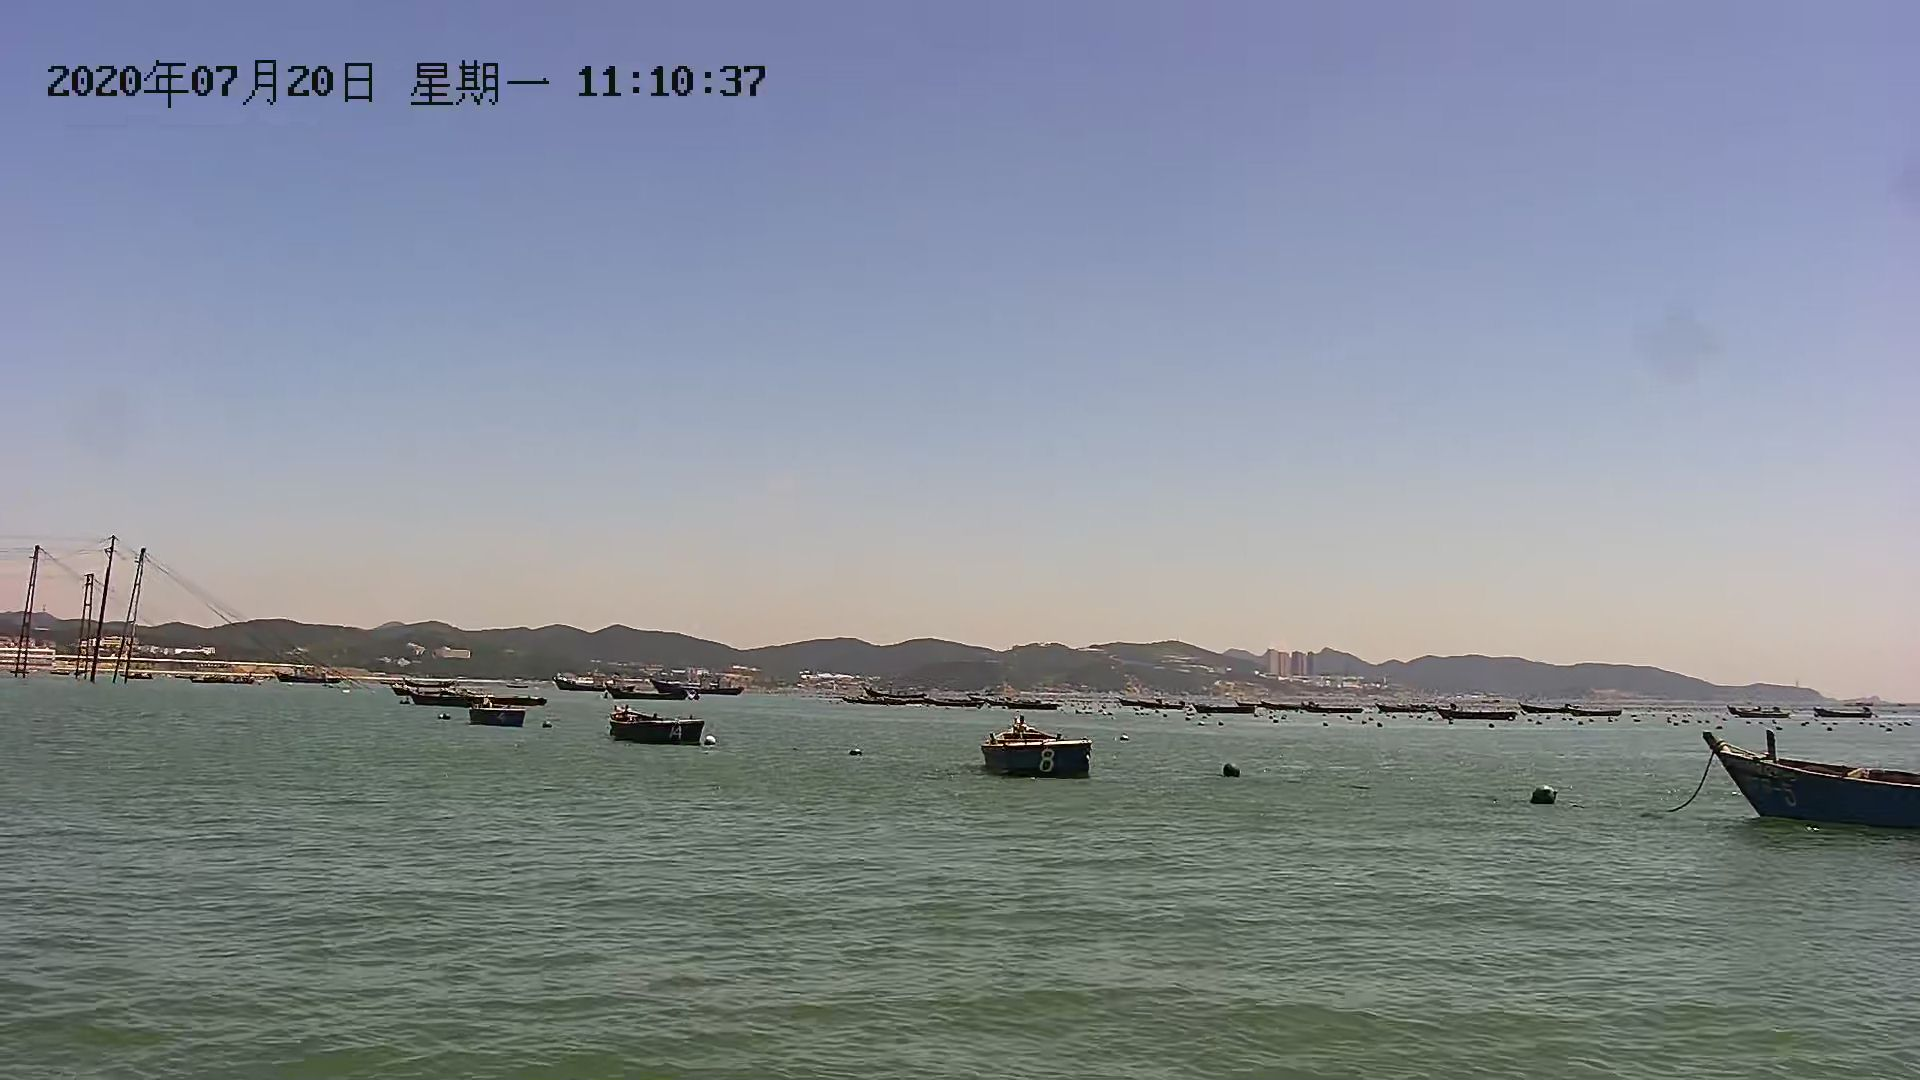ball: (1532, 783, 1564, 816), (1218, 756, 1251, 781), (844, 744, 862, 764)
boat: (1677, 746, 1920, 841), (973, 715, 1104, 783), (596, 695, 711, 742), (407, 683, 477, 702), (467, 704, 526, 720)
